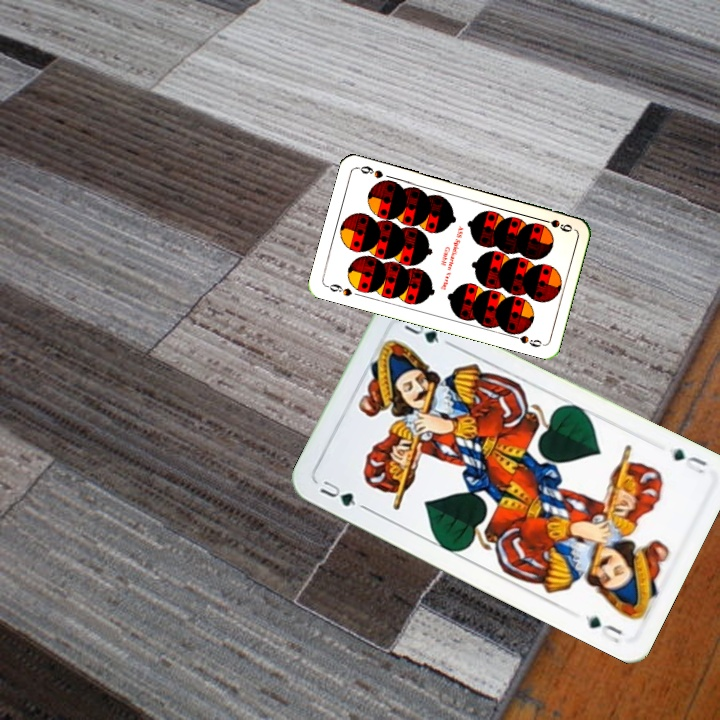GU: (316, 476, 368, 512), (669, 444, 710, 477)
S9: (536, 214, 575, 235), (322, 280, 355, 299)
